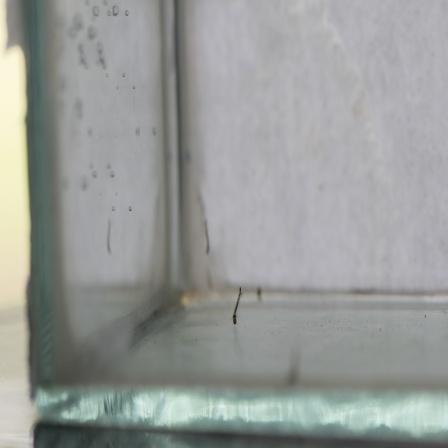Jentik-Nyamuk: (227, 282, 247, 329)
